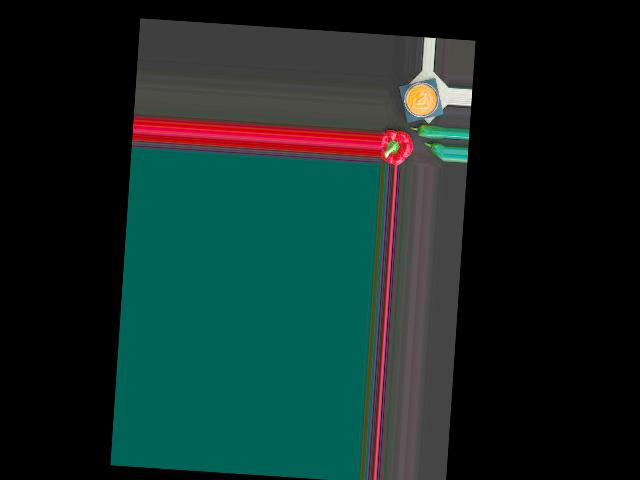bell_pepper: (380, 129, 413, 164)
